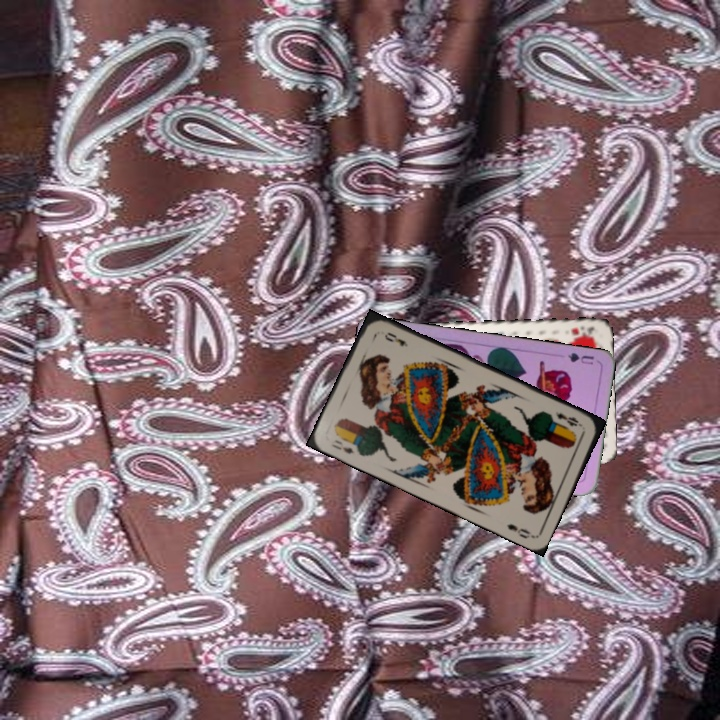EO: (551, 407, 585, 429), (328, 435, 358, 457)
GU: (563, 348, 596, 367)
HK: (568, 322, 596, 340)
